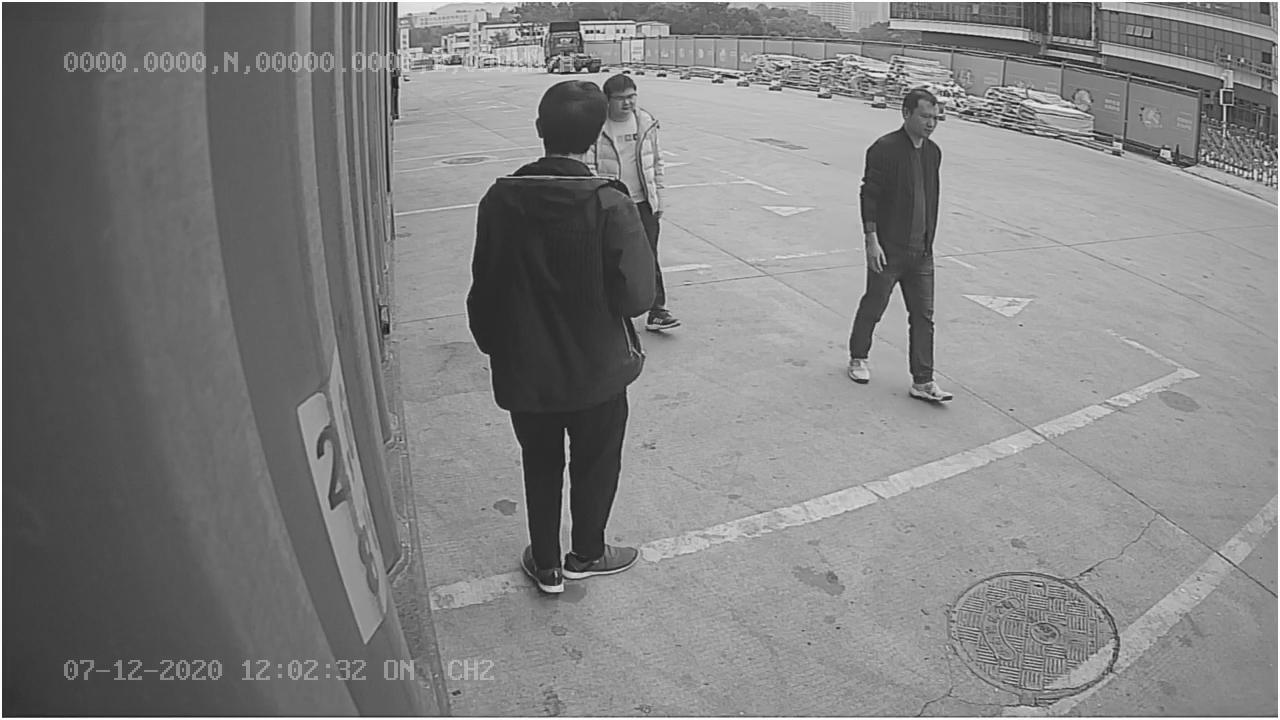person: (452, 77, 672, 602), (841, 90, 966, 405)
